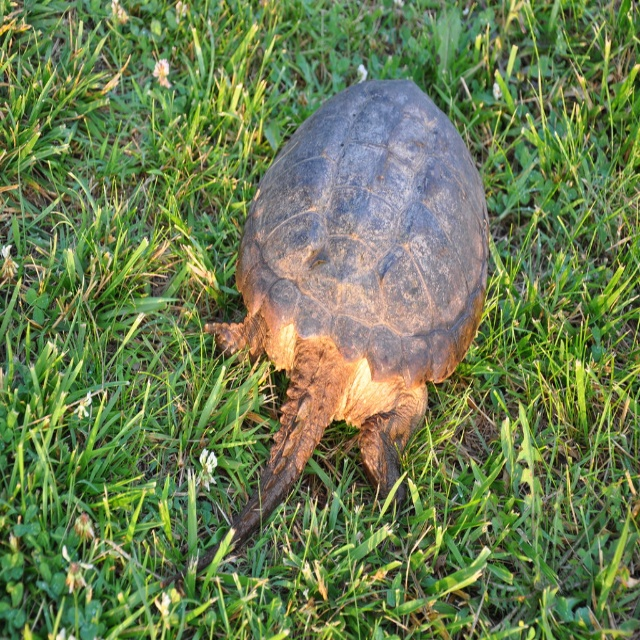Tortoise: (160, 80, 490, 588)
